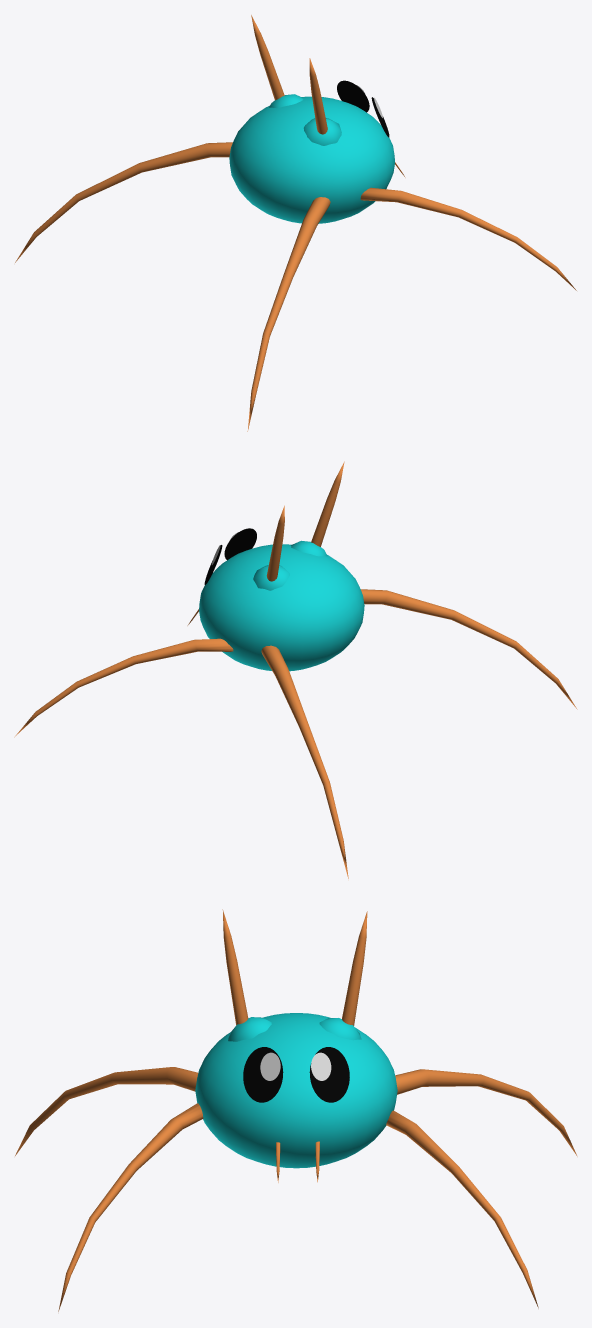
File: pondboiNormal.fbx
3 views of the same model, one above another, from view 1: azimuth 30°, elevation 25°; view 2: azimuth 150°, elevation 25°; view 3: azimuth 270°, elevation 25° (orthographic). The views are drawn at different scales.
Parts seen in each view (by area): view 1: Sphere, Cylinder.006, Cylinder.007, Cylinder.002, Cylinder, Cylinder.001, Circle.001; view 2: Sphere, Cylinder.006, Cylinder.007, Cylinder.003, Cylinder.001, Cylinder, Circle; view 3: Sphere, Cylinder.007, Cylinder.006, Cylinder.002, Cylinder.003, Cylinder, Cylinder.001, Circle, Circle.001.
Part boxes in pixels (x1,y1,x2,y2): Sphere: (229,96,394,223); Cylinder.006: (15,142,232,262); Cylinder.007: (247,197,330,431); Cylinder.002: (360,187,576,290); Cylinder: (303,58,341,145); Cylinder.001: (251,15,303,108); Circle.001: (337,80,369,112); Sphere: (199,544,364,671); Cylinder.006: (261,645,348,878); Cylinder.007: (361,589,577,709); Cylinder.003: (14,638,233,737); Cylinder.001: (253,505,289,590); Cylinder: (291,461,344,556); Circle: (224,528,256,560); Sphere: (195,1013,397,1168); Cylinder.007: (15,1067,198,1155); Cylinder.006: (395,1069,577,1156); Cylinder.002: (58,1103,203,1311); Cylinder.003: (386,1110,538,1308); Cylinder: (222,909,271,1041); Cylinder.001: (319,911,367,1040); Circle: (243,1047,283,1102); Circle.001: (309,1047,349,1102).
Size of the model in its own units: 317 by 239 by 361.
